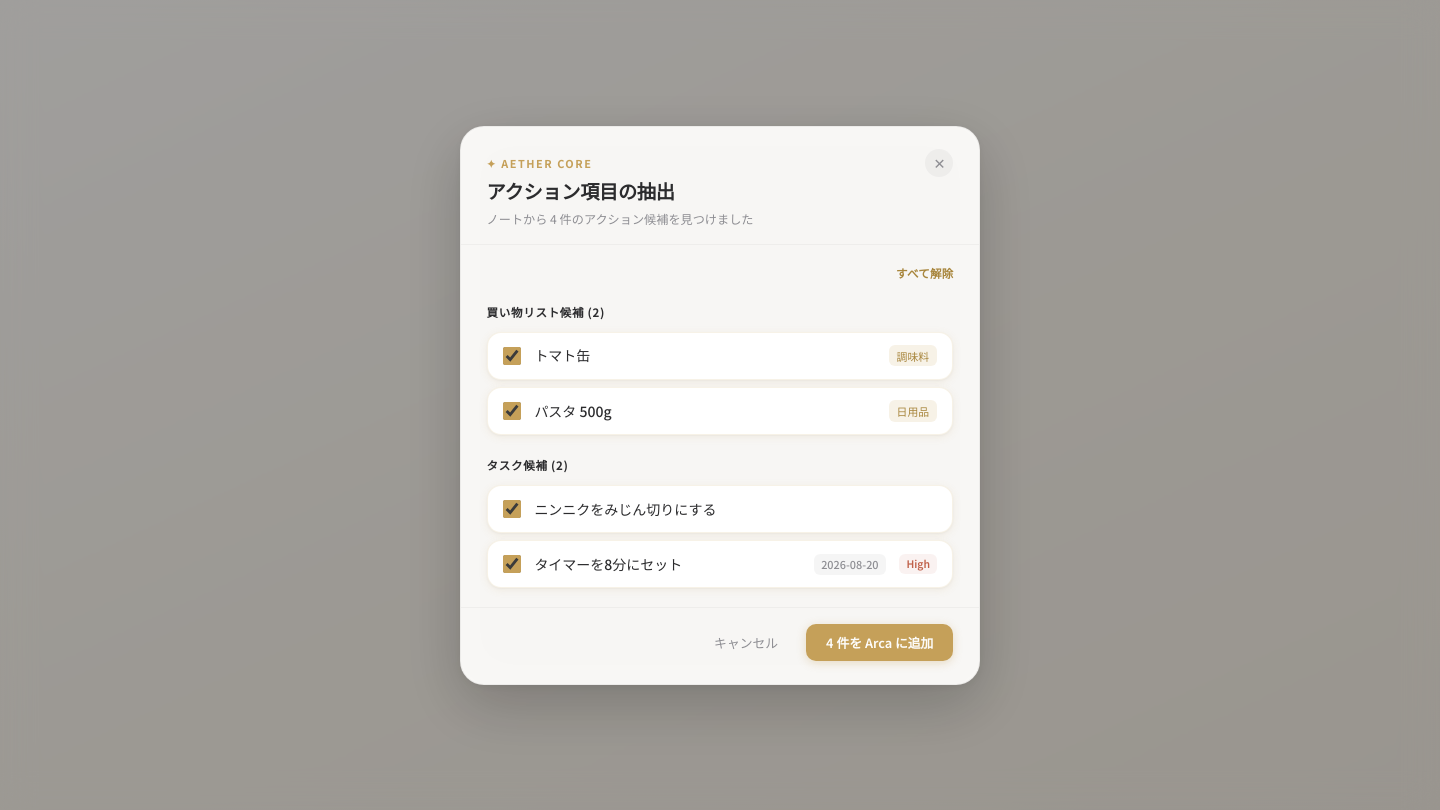
AetherExtractModal コンポーネント › カード行のテキストをクリックして個別にON/OFFをトグルできる
The width and height of the screenshot is (1440, 810).
Expected: the button "4 件を Arca に追加" is shown, [806, 624, 953, 661]
// 「トマト缶」のテキスト行をクリックして解除
Click the text "トマト缶": click(562, 355) [534, 345, 590, 365]
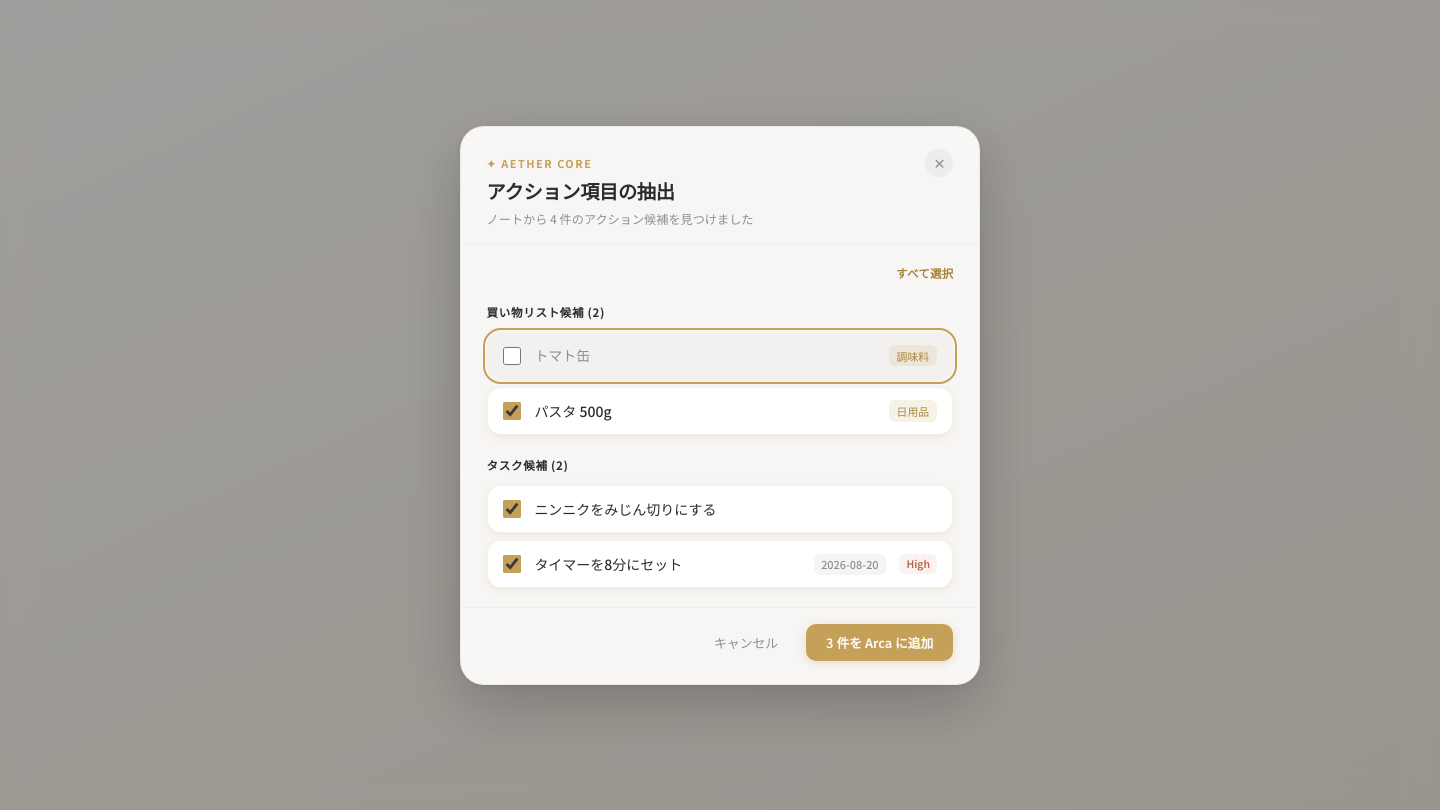
Now the button "3 件を Arca に追加" is shown, box [806, 624, 953, 661]
// もう一度クリックして再選択
Click the text "トマト缶": click(562, 355) [534, 345, 590, 365]
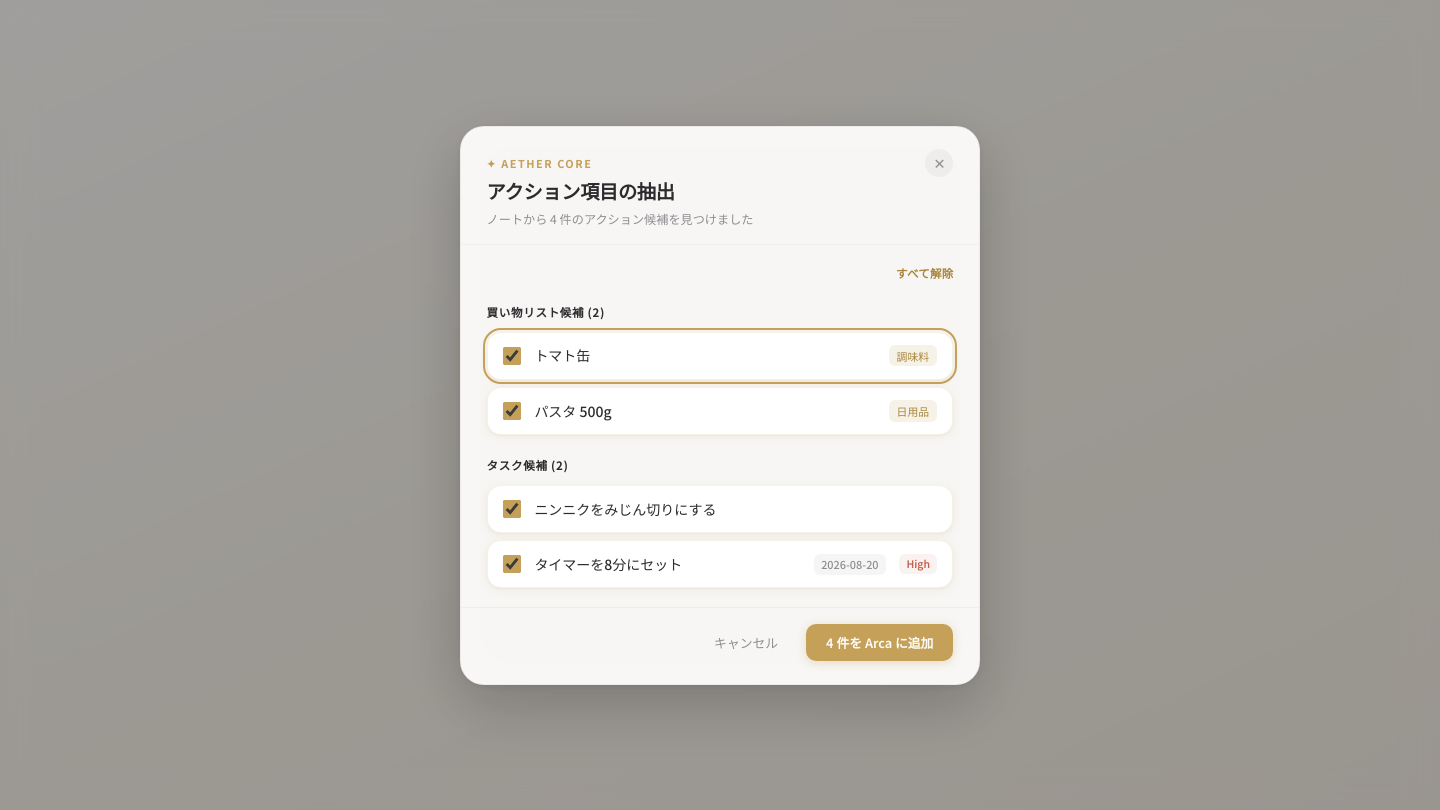
Now the button "4 件を Arca に追加" is shown, box [806, 624, 953, 661]
